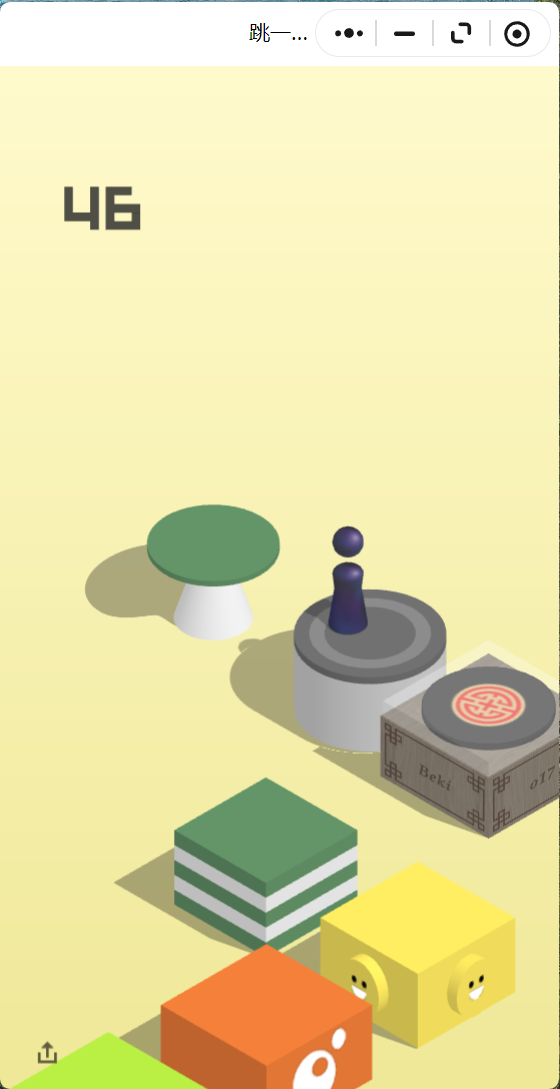piece: (333, 526, 363, 630)
target: (147, 504, 280, 580)
